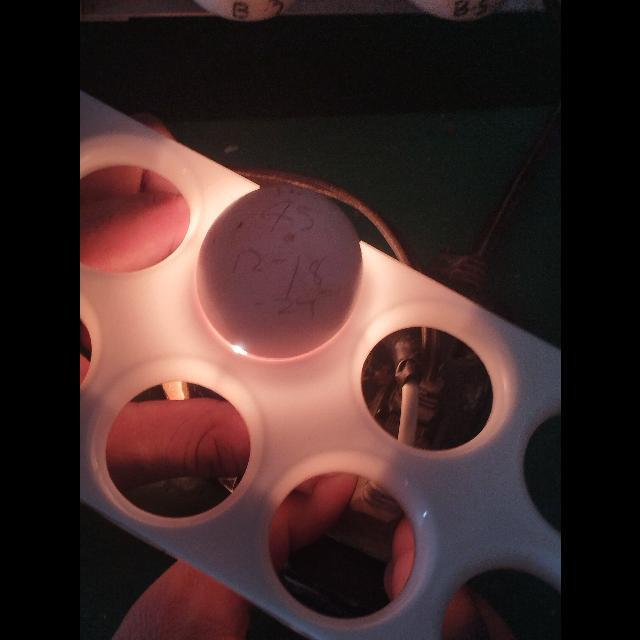Fertile: (194, 182, 366, 360)
